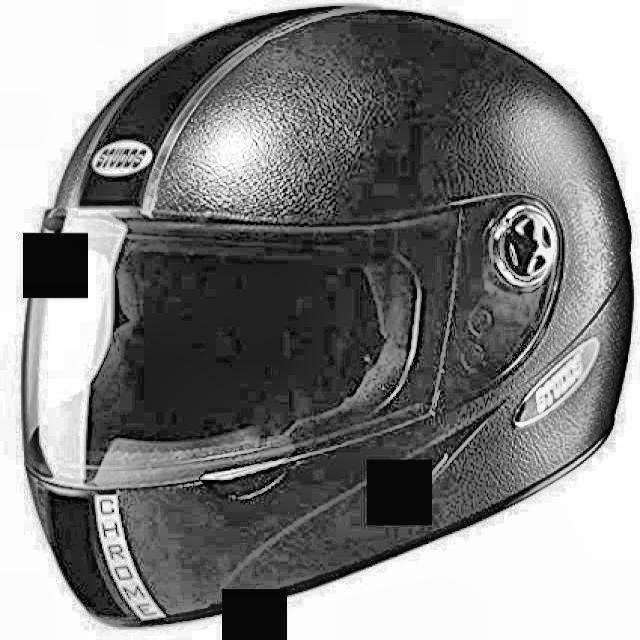Helmet: (19, 1, 625, 622)
